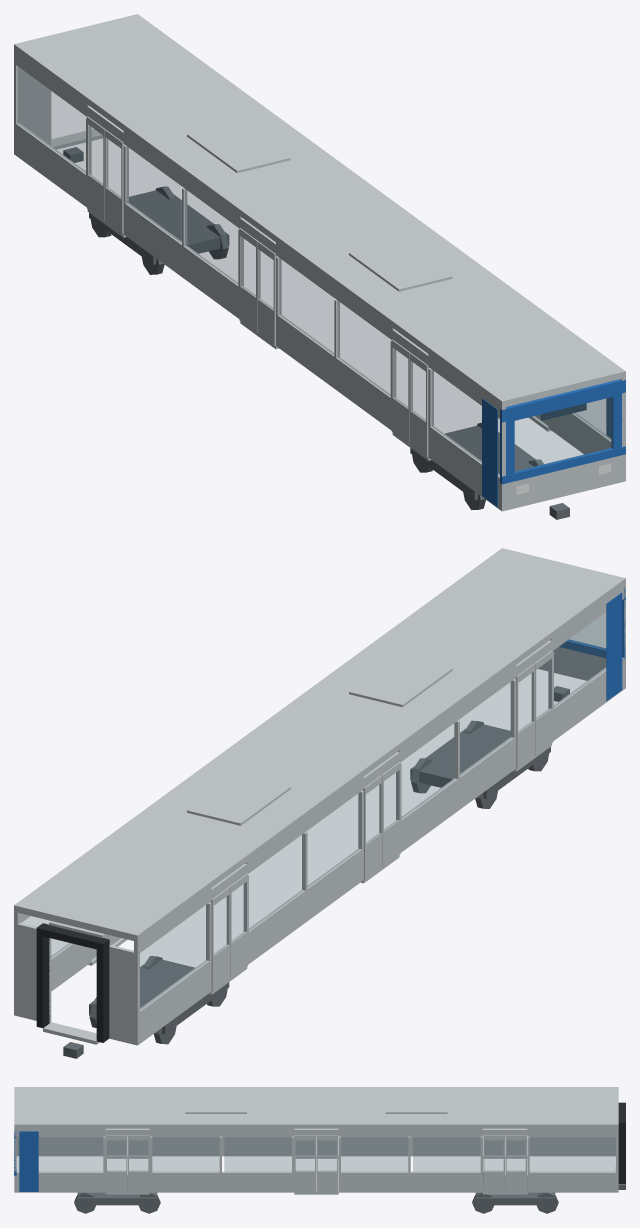
Rendered from canada-line-endcar-exterior.lod1.glb.
The picture shows the model from 3 angles, top to bottom: view 1: azimuth 30°, elevation 25°; view 2: azimuth 150°, elevation 25°; view 3: azimuth 270°, elevation 25°; orthographic projection. The views are drawn at different scales.
Visible parts, largest first — view 1: body-shell, glass, blue-fascia, bogie-rear-frame, door-right-1-b, door-right-3-b, door-right-2-b, door-right-2-a, door-right-3-a, bogie-front-frame, door-right-1-a; view 2: body-shell, glass, gangway-rubber, bogie-front-frame, blue-fascia, bogie-rear-frame, door-right-1-a, door-right-3-a, door-right-2-a, door-right-2-b, door-right-3-b, door-right-1-b; view 3: body-shell, glass, door-left-2-b, door-left-3-b, door-left-2-a, blue-fascia, door-left-1-a, door-left-1-b, door-left-3-a, bogie-rear-frame, bogie-front-frame, gangway-rubber (+10 smaller).
Part boxes in pixels (x1,y1,x2,y2): body-shell: [14, 14, 625, 511]; glass: [18, 67, 612, 475]; blue-fascia: [482, 379, 625, 507]; bogie-rear-frame: [89, 190, 229, 264]; door-right-1-b: [104, 129, 124, 234]; door-right-3-b: [409, 352, 429, 457]; door-right-2-b: [257, 241, 276, 345]; door-right-2-a: [239, 228, 257, 332]; door-right-3-a: [391, 339, 409, 444]; bogie-front-frame: [410, 425, 535, 499]; door-right-1-a: [87, 116, 105, 221]; body-shell: [14, 548, 625, 1045]; glass: [22, 612, 606, 1009]; gangway-rubber: [36, 923, 109, 1042]; bogie-front-frame: [410, 724, 550, 798]; blue-fascia: [559, 588, 625, 701]; bogie-rear-frame: [89, 959, 229, 1033]; door-right-1-a: [210, 886, 230, 991]; door-right-3-a: [515, 663, 534, 768]; door-right-2-a: [362, 775, 382, 879]; door-right-2-b: [382, 762, 400, 866]; door-right-3-b: [534, 650, 552, 755]; door-right-1-b: [230, 873, 247, 978]; body-shell: [14, 1087, 625, 1194]; glass: [17, 1137, 615, 1171]; door-left-2-b: [294, 1135, 316, 1192]; door-left-3-b: [105, 1135, 127, 1192]; door-left-2-a: [316, 1135, 338, 1192]; blue-fascia: [14, 1130, 38, 1191]; door-left-1-a: [505, 1135, 526, 1192]; door-left-1-b: [483, 1135, 504, 1192]; door-left-3-a: [128, 1135, 149, 1192]; bogie-rear-frame: [475, 1175, 555, 1205]; bogie-front-frame: [77, 1175, 157, 1205]; gangway-rubber: [618, 1102, 625, 1183].
Bounding box in the file's own units: 3.05 × 3.7 × 20.76.
